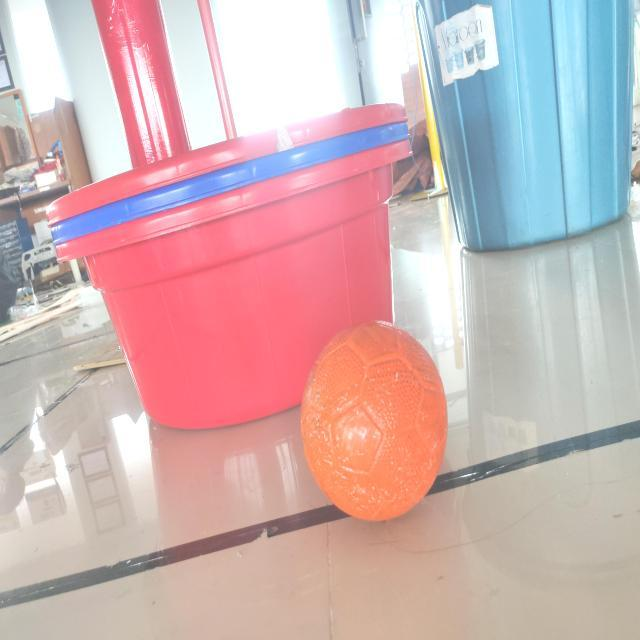bola: (294, 310, 452, 536)
